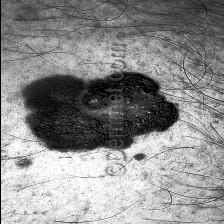Potentially Malignant Skin Tumors: (21, 72, 108, 154), (127, 68, 181, 144)
